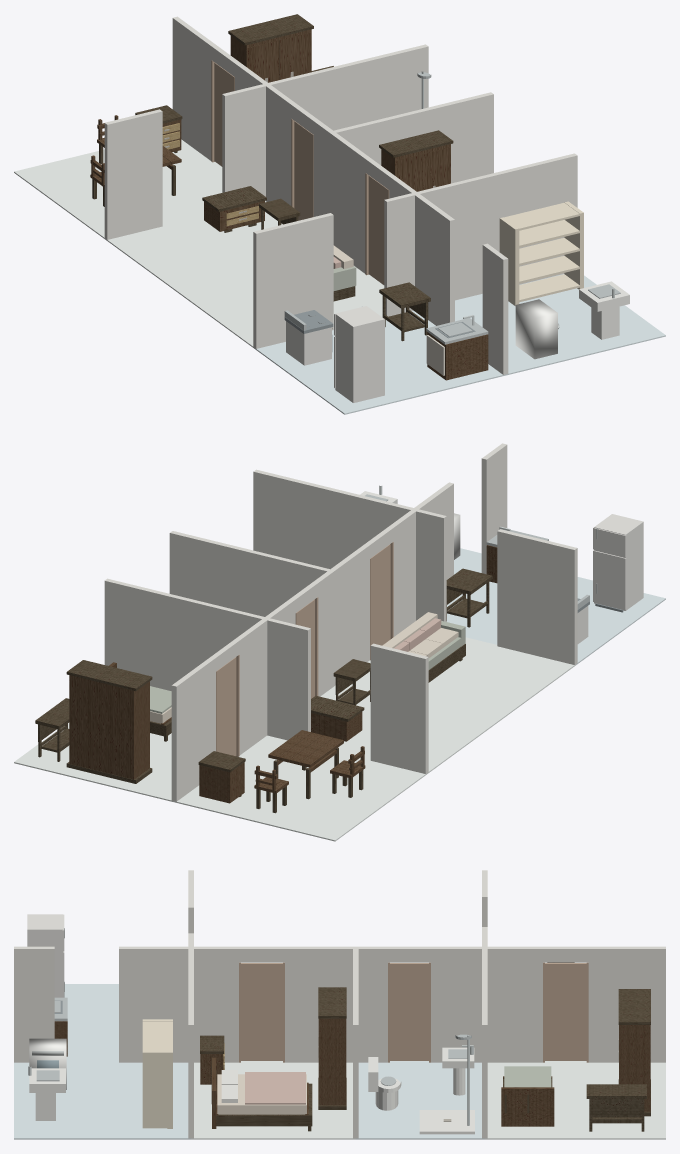
3 views of the same model, one above another, from view 1: azimuth 30°, elevation 25°; view 2: azimuth 150°, elevation 25°; view 3: azimuth 270°, elevation 25° (orthographic).
Parts seen in each view (by area): view 1: H29_FLOOR_01_SALA_DE_ESTAR, H29_WALL_09, H29_WALL_00, H29_WALL_11, H29_FLOOR_02_SALA_DE_JANTAR, H29_WALL_02, H29_FLOOR_00_COZINHA_+_COPA, H29_WALL_10, H29_FLOOR_03_LAVANDERIA, H29_WALL_06, H29_WALL_05, H29_WALL_08 (+32 smaller); view 2: H29_FLOOR_01_SALA_DE_ESTAR, H29_WALL_11, H29_FLOOR_02_SALA_DE_JANTAR, H29_WALL_09, H29_WALL_00, H29_WALL_10, H29_FURN_21_wardrobe__06__corpo, H29_WALL_02, H29_WALL_06, H29_WALL_08, H29_WALL_03, H29_FLOOR_00_COZINHA_+_COPA (+18 smaller); view 3: H29_WALL_07, H29_WALL_05, H29_FLOOR_03_LAVANDERIA, H29_WALL_06, H29_FLOOR_06_QUARTO_02, H29_FLOOR_05_BANHEIRO, H29_WALL_08, H29_FLOOR_04_QUARTO_CASAL, H29_WALL_04, H29_DOOR_00_LEAF, H29_DOOR_02_LEAF, H29_FLOOR_00_COZINHA_+_COPA (+29 smaller).
Boxes of the visible parts, left/top/right/bottom form: H29_FLOOR_01_SALA_DE_ESTAR: left=106, top=201, right=384, bottom=348; H29_WALL_09: left=415, top=153, right=577, bottom=300; H29_WALL_00: left=253, top=213, right=333, bottom=348; H29_WALL_11: left=266, top=44, right=428, bottom=130; H29_FLOOR_02_SALA_DE_JANTAR: left=14, top=139, right=222, bottom=239; H29_WALL_02: left=104, top=109, right=162, bottom=239; H29_FLOOR_00_COZINHA_+_COPA: left=255, top=310, right=505, bottom=414; H29_WALL_10: left=331, top=92, right=493, bottom=183; H29_FLOOR_03_LAVANDERIA: left=455, top=274, right=665, bottom=375; H29_WALL_06: left=313, top=119, right=370, bottom=273; H29_WALL_05: left=388, top=175, right=454, bottom=325; H29_WALL_08: left=172, top=16, right=216, bottom=160; H29_FLOOR_01_SALA_DE_ESTAR: left=320, top=637, right=575, bottom=773; H29_WALL_11: left=104, top=578, right=266, bottom=690; H29_FLOOR_02_SALA_DE_JANTAR: left=174, top=735, right=427, bottom=841; H29_WALL_09: left=253, top=469, right=414, bottom=569; H29_WALL_00: left=497, top=529, right=577, bottom=664; H29_WALL_10: left=169, top=531, right=330, bottom=616; H29_FURN_21_wardrobe__06__corpo: left=69, top=675, right=149, bottom=779; H29_WALL_02: left=370, top=643, right=428, bottom=773; H29_WALL_06: left=312, top=543, right=370, bottom=696; H29_WALL_08: left=171, top=656, right=216, bottom=801; H29_WALL_03: left=265, top=617, right=310, bottom=740; H29_FLOOR_00_COZINHA_+_COPA: left=446, top=577, right=665, bottom=664; H29_WALL_07: left=430, top=946, right=543, bottom=1062; H29_WALL_05: left=119, top=946, right=239, bottom=1062; H29_FLOOR_03_LAVANDERIA: left=14, top=1061, right=190, bottom=1139; H29_WALL_06: left=284, top=946, right=388, bottom=1062; H29_FLOOR_06_QUARTO_02: left=484, top=1061, right=665, bottom=1139; H29_FLOOR_05_BANHEIRO: left=356, top=1061, right=484, bottom=1139; H29_WALL_08: left=587, top=946, right=665, bottom=1062; H29_FLOOR_04_QUARTO_CASAL: left=191, top=1061, right=355, bottom=1139; H29_WALL_04: left=14, top=946, right=54, bottom=1062; H29_DOOR_00_LEAF: left=241, top=963, right=282, bottom=1060; H29_DOOR_02_LEAF: left=545, top=963, right=586, bottom=1060; H29_FLOOR_00_COZINHA_+_COPA: left=64, top=984, right=118, bottom=1061.
Size of the model in its own units: 7.1 by 2.46 by 12.66.
22 materials, 3 textured.
